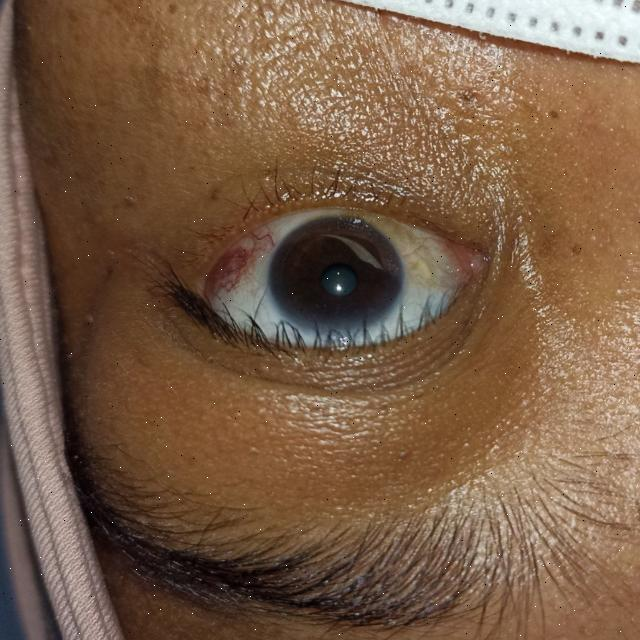Cataract: (266, 216, 404, 341)
